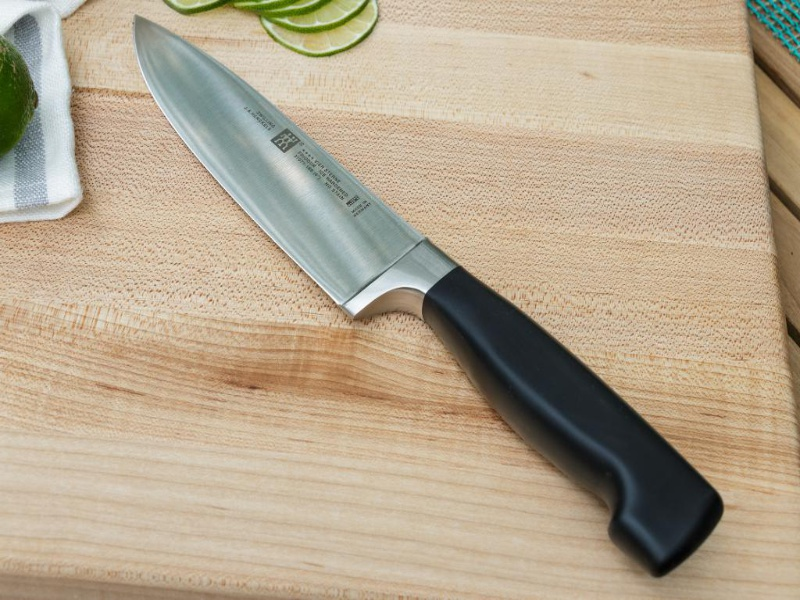knife: (129, 11, 731, 582)
